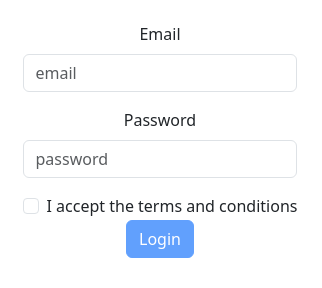
Test: Login page › Unsuccessfull login scenario tests › it shows error message when email is not valid
In the field with test id "email-input": (161, 73) [23,54,298,92], type "hasanangis@r"
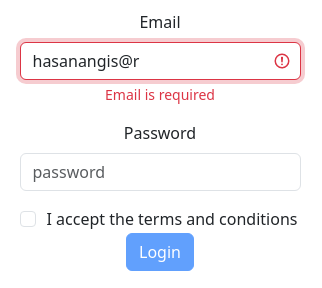
Expected: the button with test id "submit-button" is disabled, [126,233,194,271]
Expected: the number of elements with test id "error-message" is 1, [105,85,215,104]
Expected: the text "Email is required" is shown, [105,84,215,104]
